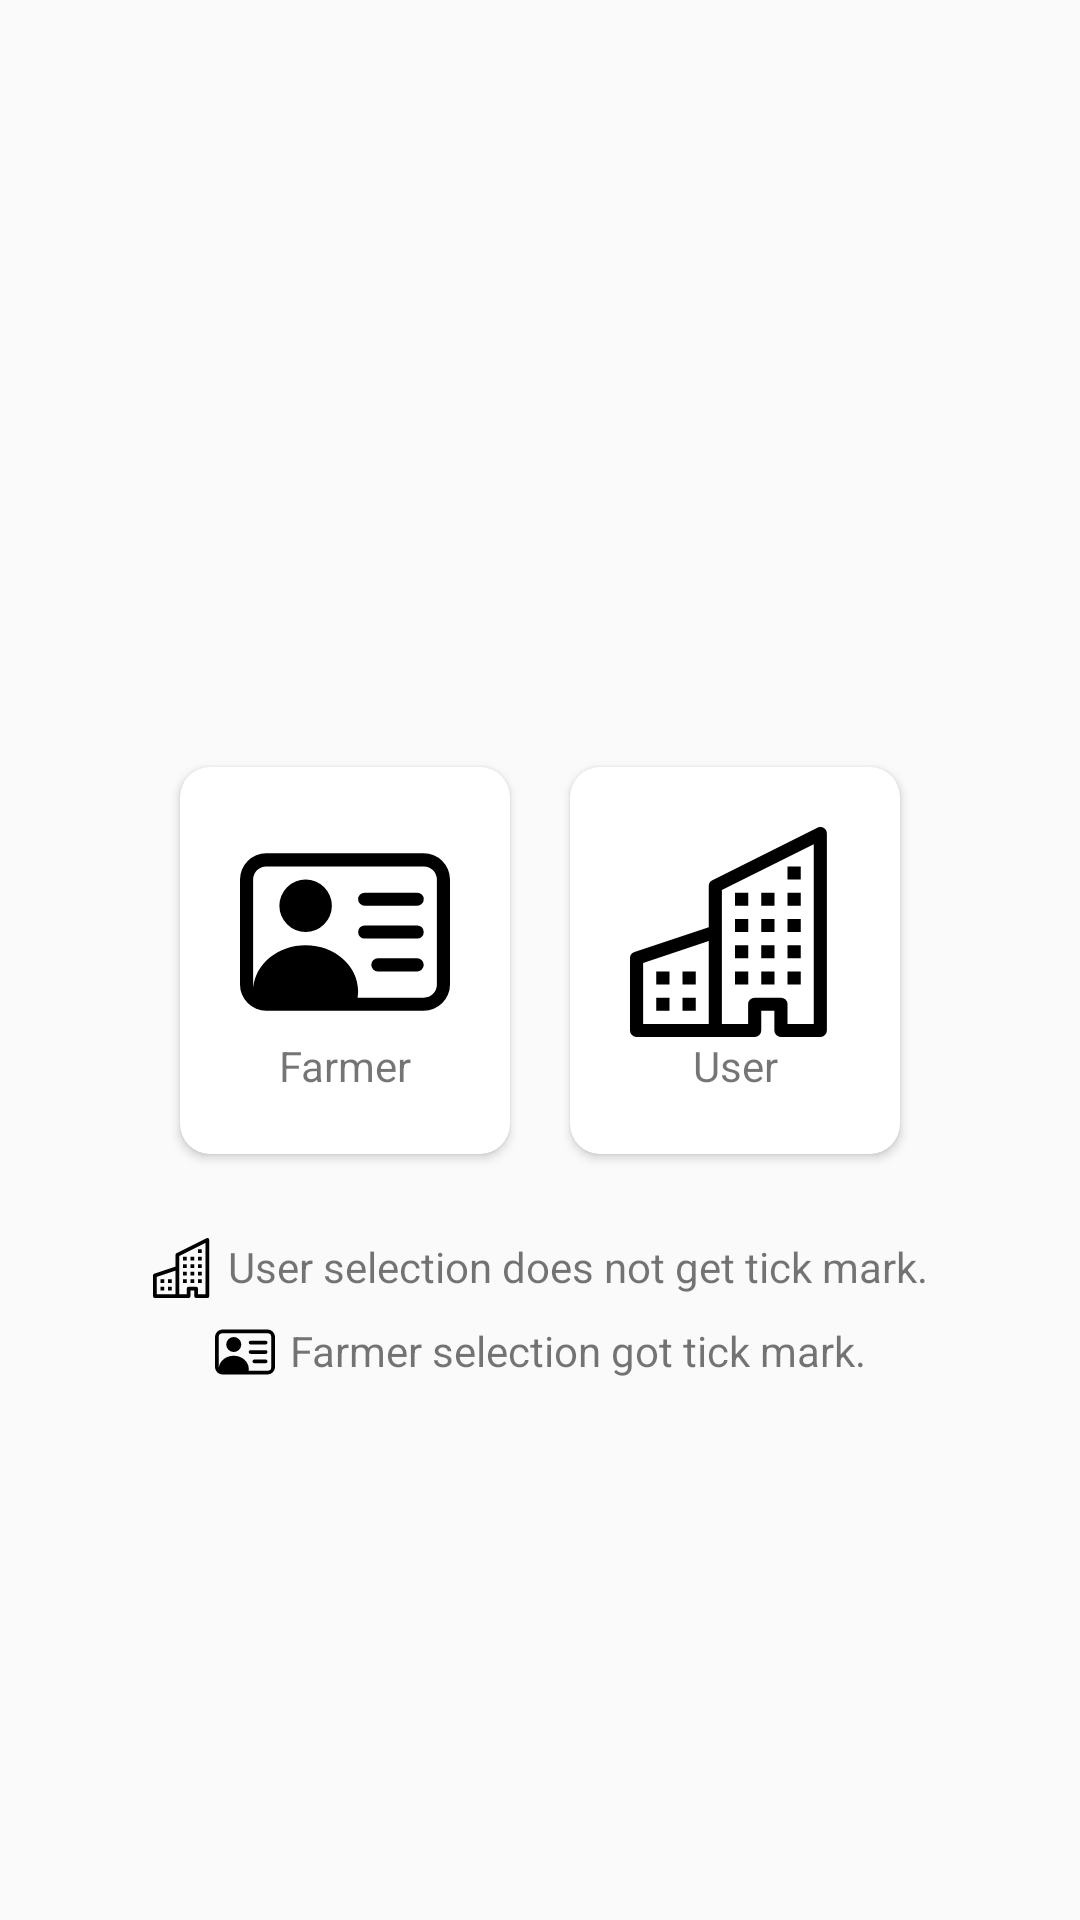

Locate icon controls on the screen. Image size 1080 × 1920, boxes as bbox(x1, y1, x2, y2).
buildings: bbox(630, 827, 827, 1037)
person vcard: bbox(240, 853, 450, 1011)
